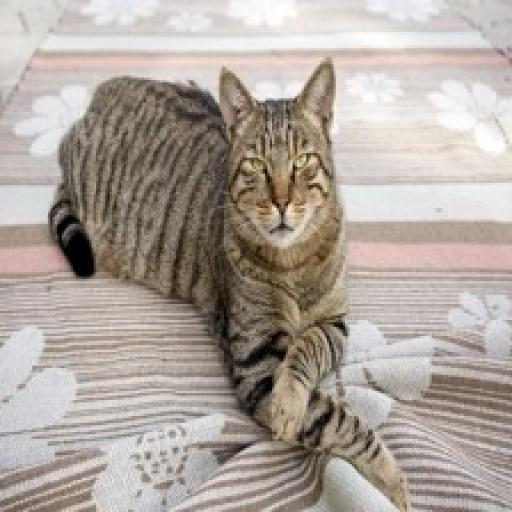cat: (37, 64, 428, 510)
